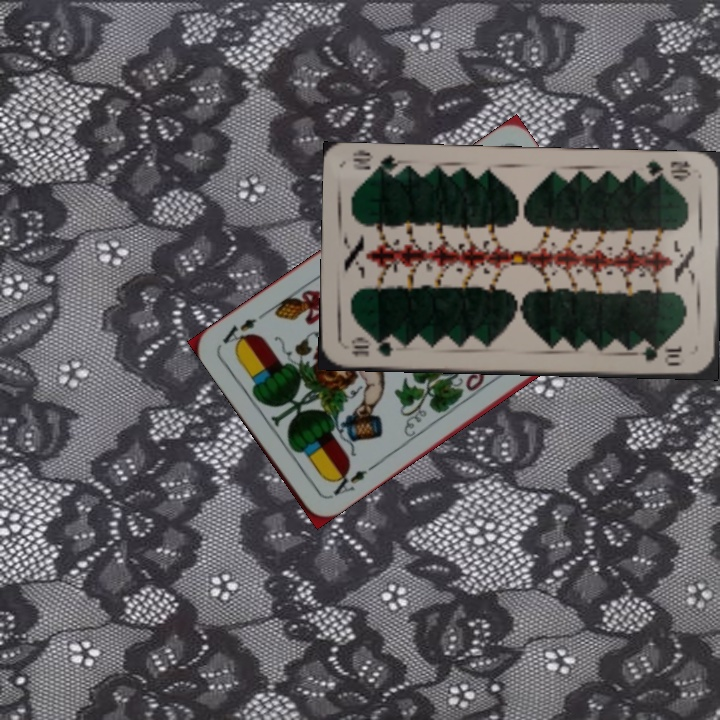EA: (324, 461, 376, 502)
G10: (638, 157, 694, 184), (347, 335, 396, 360)
